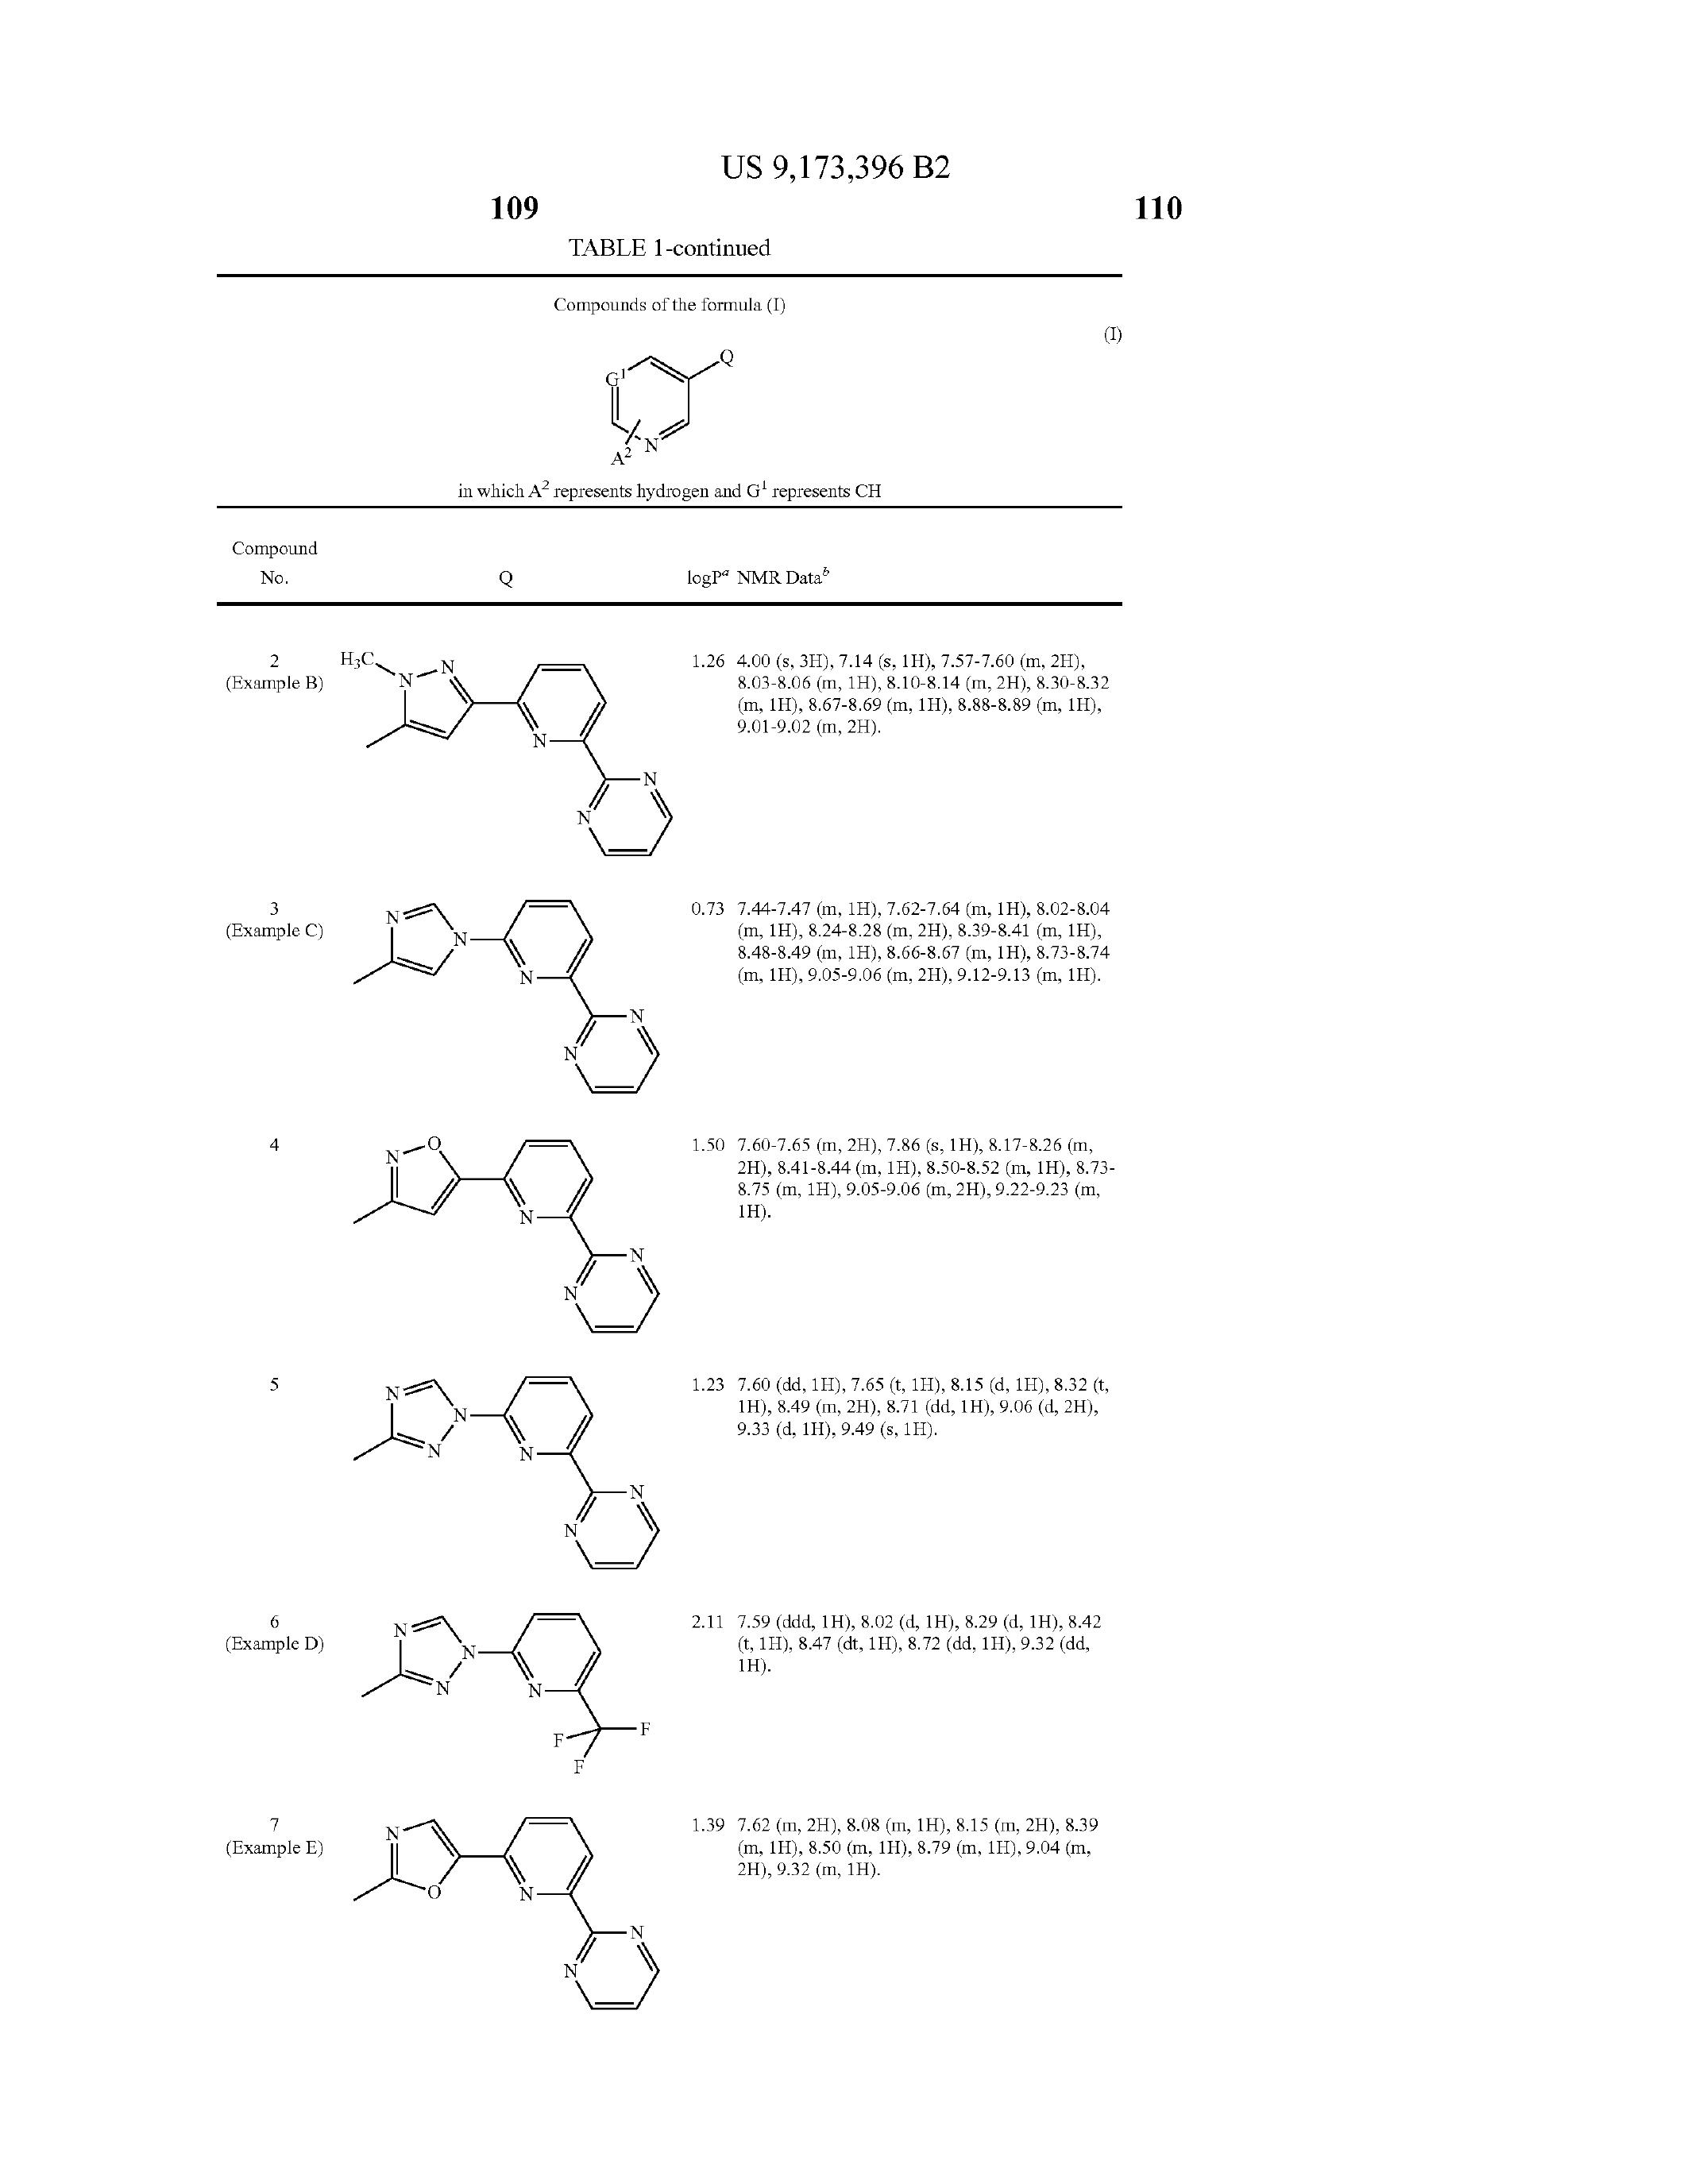relevant-structures: (321, 610, 709, 883), (363, 1792, 667, 2108), (326, 1349, 688, 1578), (342, 1122, 695, 1335), (326, 895, 702, 1094), (323, 1588, 665, 1773)
